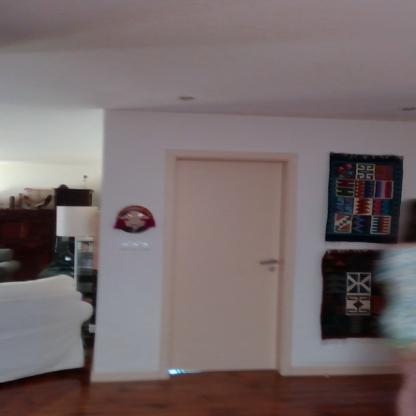door: (175, 158, 281, 374)
lever: (259, 259, 280, 267)
